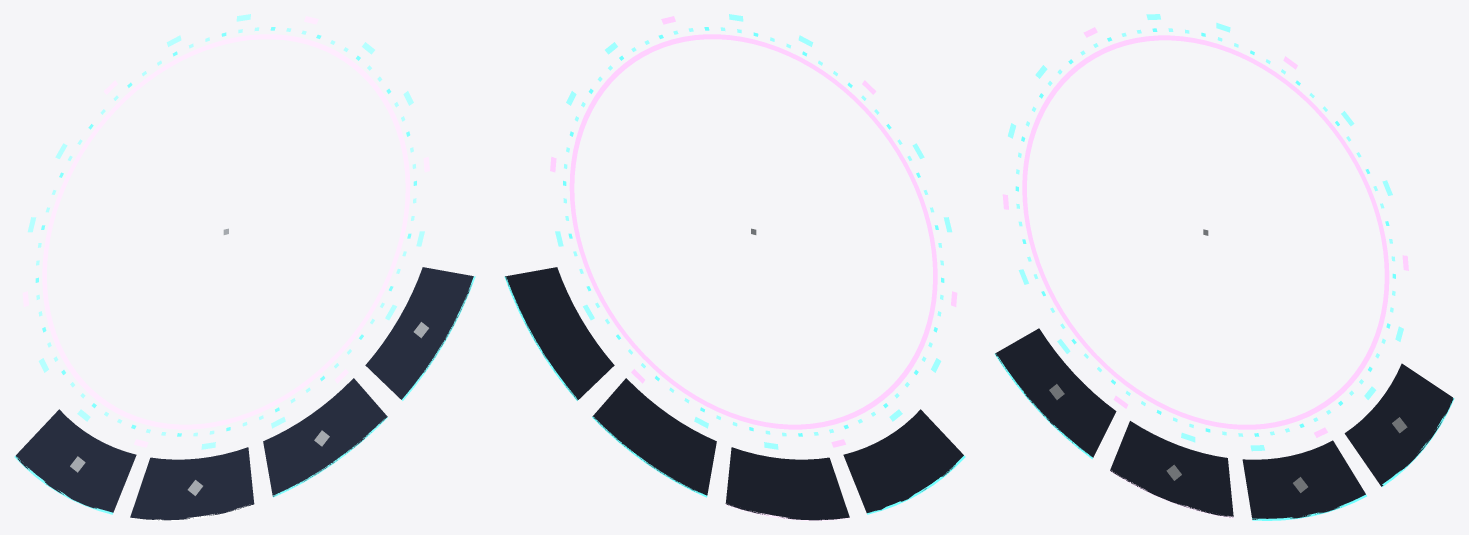
Rendered from FocusReticle.fbx.
3 views of the same model, side by side, from view 1: azimuth 30°, elevation 25°; view 2: azimuth 150°, elevation 25°; view 3: azimuth 330°, elevation 25° (orthographic).
Parts seen in each view (by area): view 1: Focus reticle combined mesh; view 2: Focus reticle combined mesh; view 3: Focus reticle combined mesh.
Part boxes in pixels (bbox=[...]): Focus reticle combined mesh: bbox=[14, 14, 475, 520]; Focus reticle combined mesh: bbox=[504, 14, 965, 520]; Focus reticle combined mesh: bbox=[994, 14, 1454, 520].
Size of the model in its own units: 69.47 by 71.15 by 0.1.
